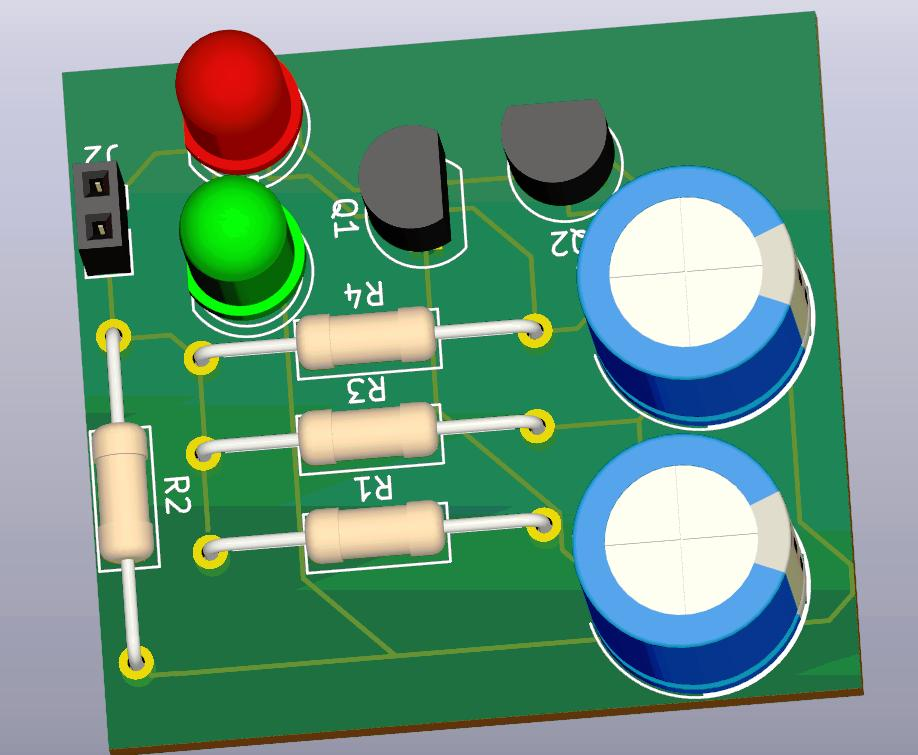capacitor: (577, 426, 808, 710), (578, 163, 815, 427)
green_led: (179, 179, 321, 323)
red_led: (166, 26, 316, 179)
resistor: (84, 415, 160, 567), (295, 396, 440, 466), (296, 309, 441, 379), (303, 501, 448, 570)
transistor: (500, 91, 622, 225), (350, 121, 455, 259)
